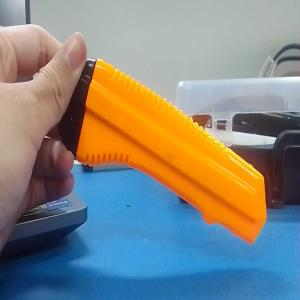estilete: (56, 57, 267, 245)
